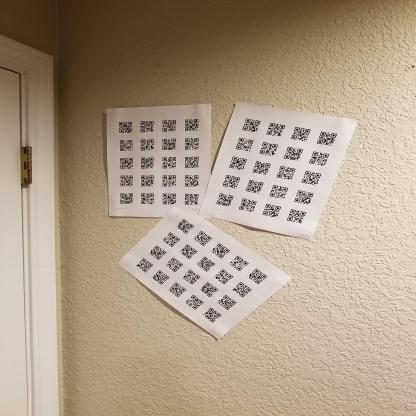qr: (287, 124, 313, 144), (286, 205, 310, 226), (196, 253, 218, 275), (264, 119, 288, 139), (298, 167, 323, 186), (260, 199, 285, 218), (257, 139, 279, 160), (247, 266, 269, 286), (267, 181, 290, 200), (214, 189, 237, 208), (216, 292, 239, 311), (211, 240, 232, 260), (227, 153, 250, 171), (219, 171, 242, 189), (160, 230, 183, 248), (274, 164, 298, 181), (313, 131, 338, 147), (309, 151, 332, 168), (242, 177, 266, 193), (192, 227, 211, 247), (293, 187, 314, 205), (231, 136, 256, 151), (181, 293, 203, 310), (232, 280, 254, 297), (227, 254, 250, 270), (181, 268, 201, 286), (241, 116, 262, 133), (251, 159, 273, 175), (236, 197, 258, 213), (168, 279, 186, 298), (283, 145, 304, 161), (215, 268, 236, 284), (138, 134, 155, 153), (205, 306, 225, 322), (161, 116, 178, 134), (148, 244, 167, 260), (200, 281, 219, 297), (183, 174, 203, 189), (178, 243, 198, 258), (139, 116, 156, 133), (118, 189, 136, 205), (184, 191, 200, 209), (165, 257, 184, 272), (117, 119, 134, 135), (135, 256, 152, 272), (153, 269, 169, 286), (139, 191, 157, 206), (141, 154, 157, 170), (162, 137, 179, 152), (176, 218, 193, 233), (185, 136, 200, 152), (162, 173, 178, 188), (162, 191, 178, 206), (185, 154, 201, 168), (185, 117, 200, 131), (119, 138, 134, 152), (162, 155, 178, 168), (120, 156, 135, 168), (120, 174, 135, 186), (141, 174, 154, 186)
